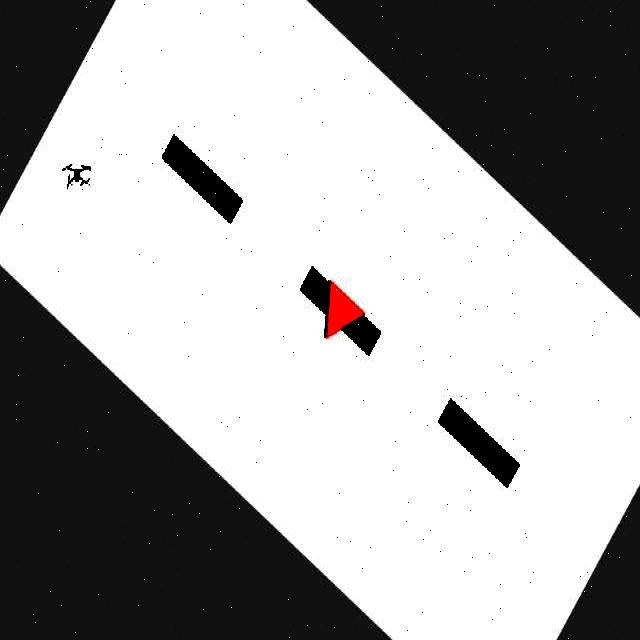red_triangle: (324, 280, 366, 340)
